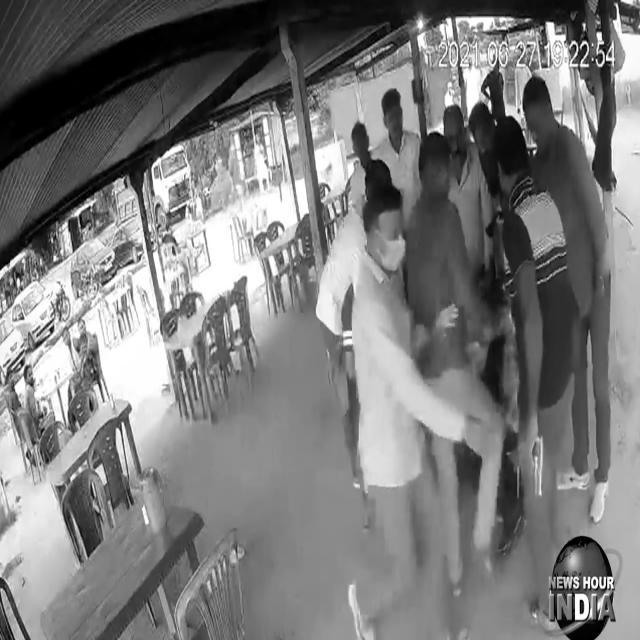Gun: (512, 429, 550, 506)
